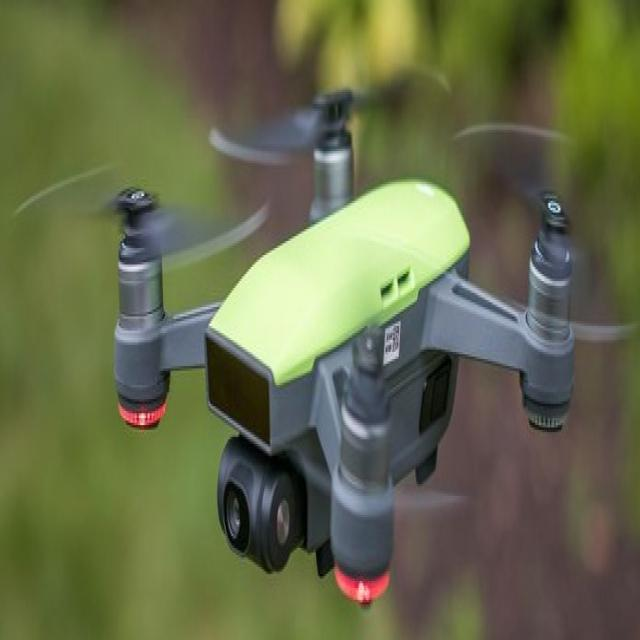drone: (16, 56, 636, 624)
